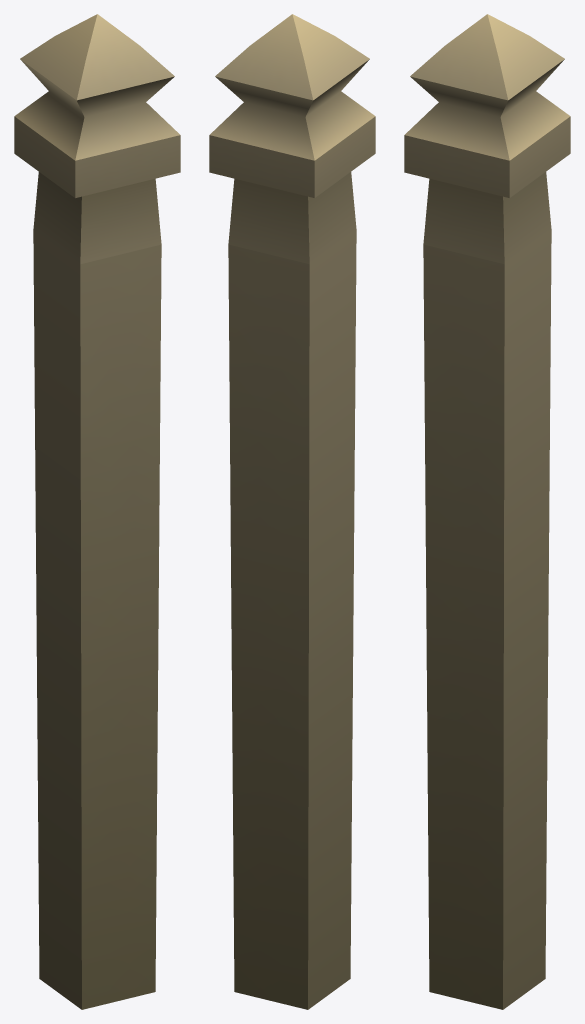
File: TSP_Fence_Wood_02A_Pole.fbx
The picture shows the model from 3 angles, left to right: view 1: azimuth 30°, elevation 25°; view 2: azimuth 150°, elevation 25°; view 3: azimuth 330°, elevation 25°; orthographic projection.
Parts seen in each view (by area): view 1: TSP_Fence_Wood_02A_Pole; view 2: TSP_Fence_Wood_02A_Pole; view 3: TSP_Fence_Wood_02A_Pole.
Part boxes in pixels (<box>): TSP_Fence_Wood_02A_Pole: <box>14,14,180,1009</box>; TSP_Fence_Wood_02A_Pole: <box>209,14,375,1009</box>; TSP_Fence_Wood_02A_Pole: <box>404,14,570,1009</box>.
Size of the model in its own units: 0.1944 by 1.71 by 0.1944.
